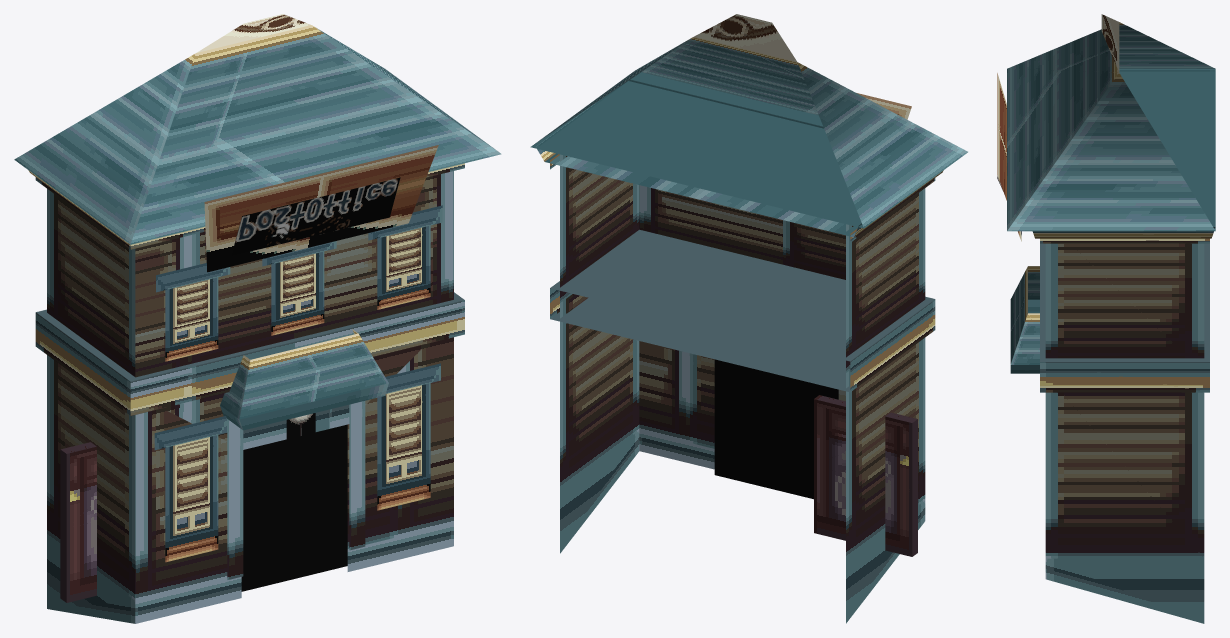
3 renders of one model, left to right at view 1: azimuth 30°, elevation 25°; view 2: azimuth 150°, elevation 25°; view 3: azimuth 270°, elevation 25°, orthographic. The views are drawn at different scales.
Visible parts, largest first — view 1: shop_post; view 2: shop_post; view 3: shop_post.
Part boxes in pixels (x1=…): shop_post: x1=14, y1=14, x2=501, y2=623; shop_post: x1=530, y1=14, x2=967, y2=623; shop_post: x1=997, y1=14, x2=1215, y2=623.
Size of the model in its own units: 3.42 by 5.17 by 1.93.
Materials: 10 (10 with a texture image).
